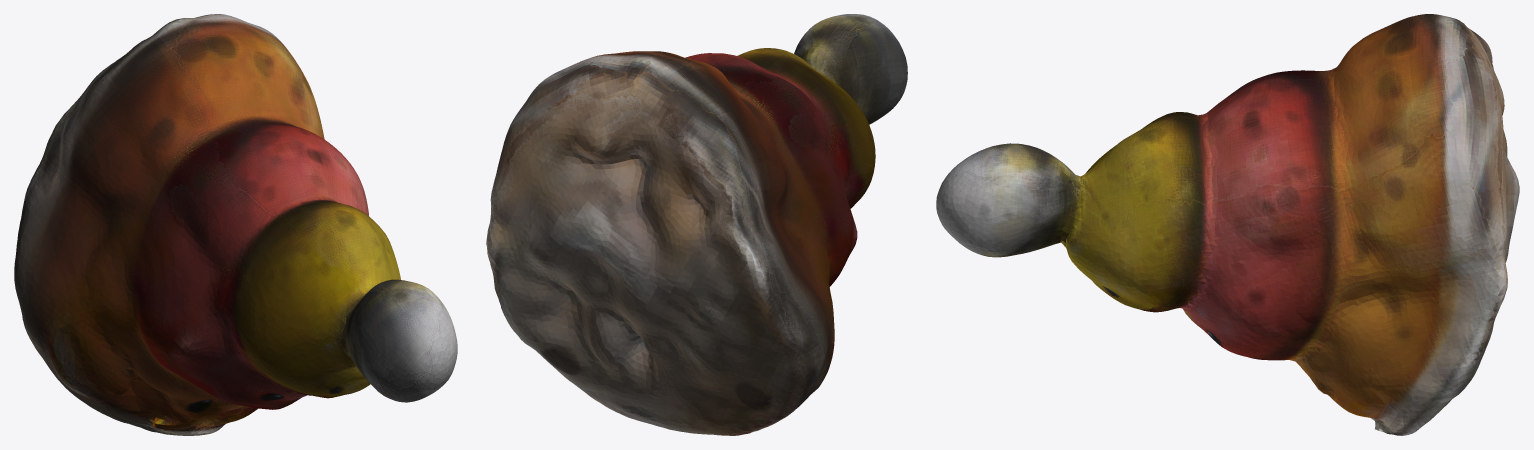
File: chicken.glb
3 views of the same model, side by side, from view 1: azimuth 30°, elevation 25°; view 2: azimuth 150°, elevation 25°; view 3: azimuth 270°, elevation 25° (orthographic). The views are drawn at different scales.
Visible parts, largest first — view 1: world; view 2: world; view 3: world.
Boxes of the visible parts, <box> form: world: <box>14,14,457,435</box>; world: <box>486,14,907,435</box>; world: <box>936,14,1519,435</box>.
Size of the model in its own units: 0.6199 by 0.757 by 1.
1 material, 1 textured.
